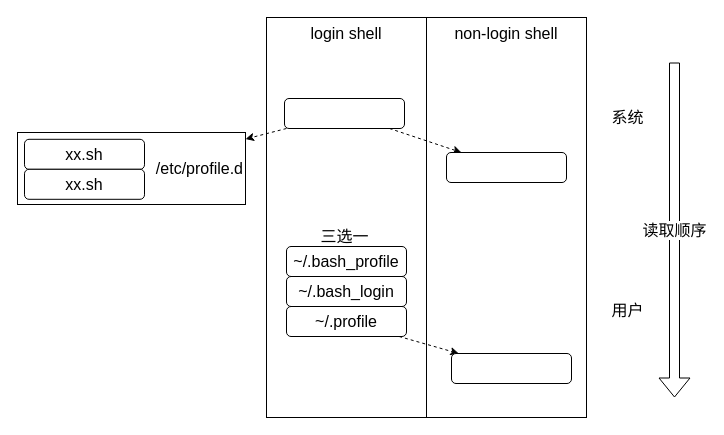
Some shapes in this 724 by 435 pixel diagram are drawn without their labels. The centre of each missing label's shape, as x and y in pixels:
/etc/bash.bashrc: the point at 506,167
/etc/profile: the point at 344,113
~/.bashrc: the point at 511,368
